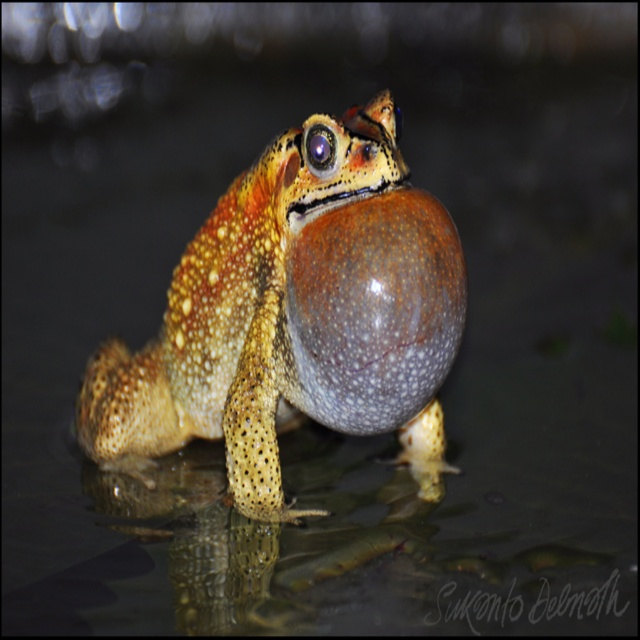Frog: (68, 87, 466, 527)
